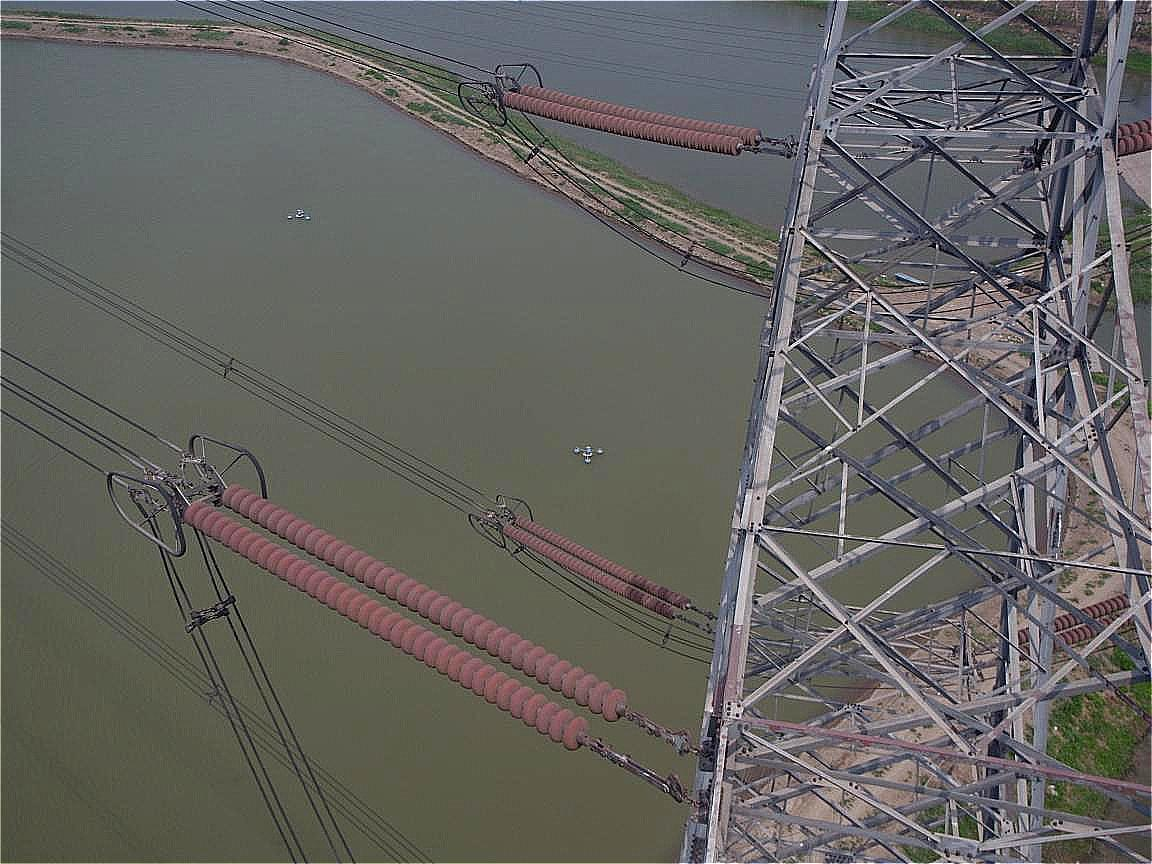insultor1: (174, 467, 637, 752), (487, 68, 783, 162), (492, 503, 693, 623)
